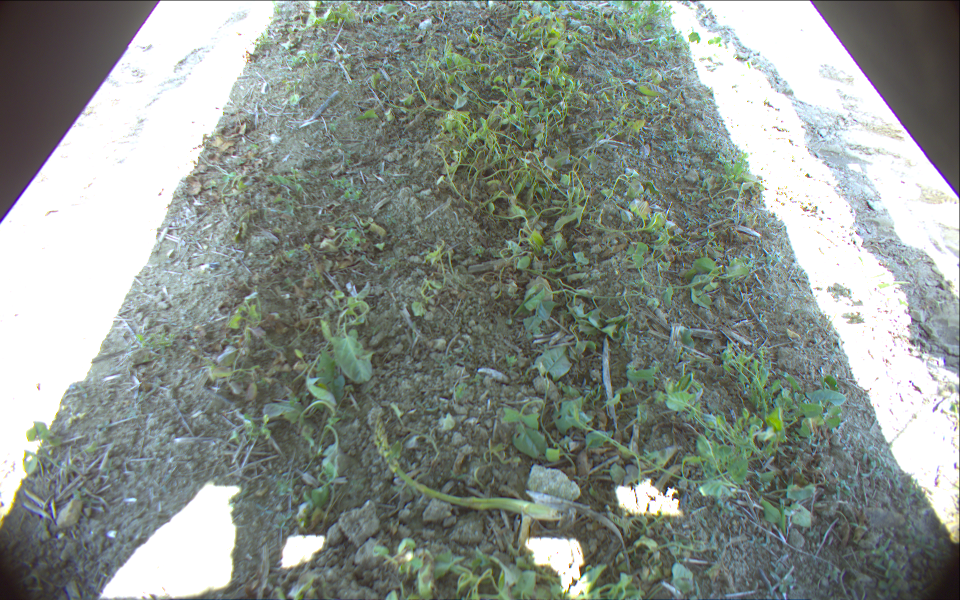aspa: (375, 418, 567, 523)
